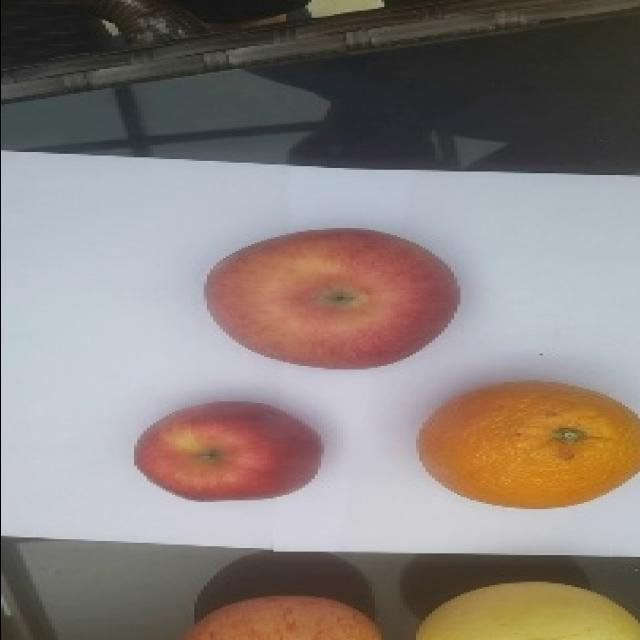Apple: (203, 226, 460, 369), (133, 399, 322, 501), (182, 594, 383, 639)
Orange: (417, 379, 639, 509)
